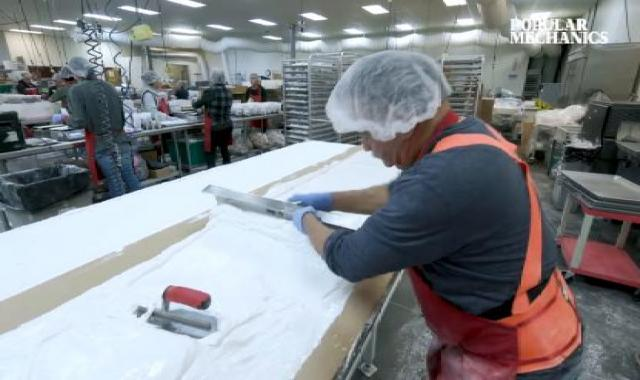hairnet: (330, 53, 457, 134), (68, 56, 95, 78), (212, 67, 228, 83)
